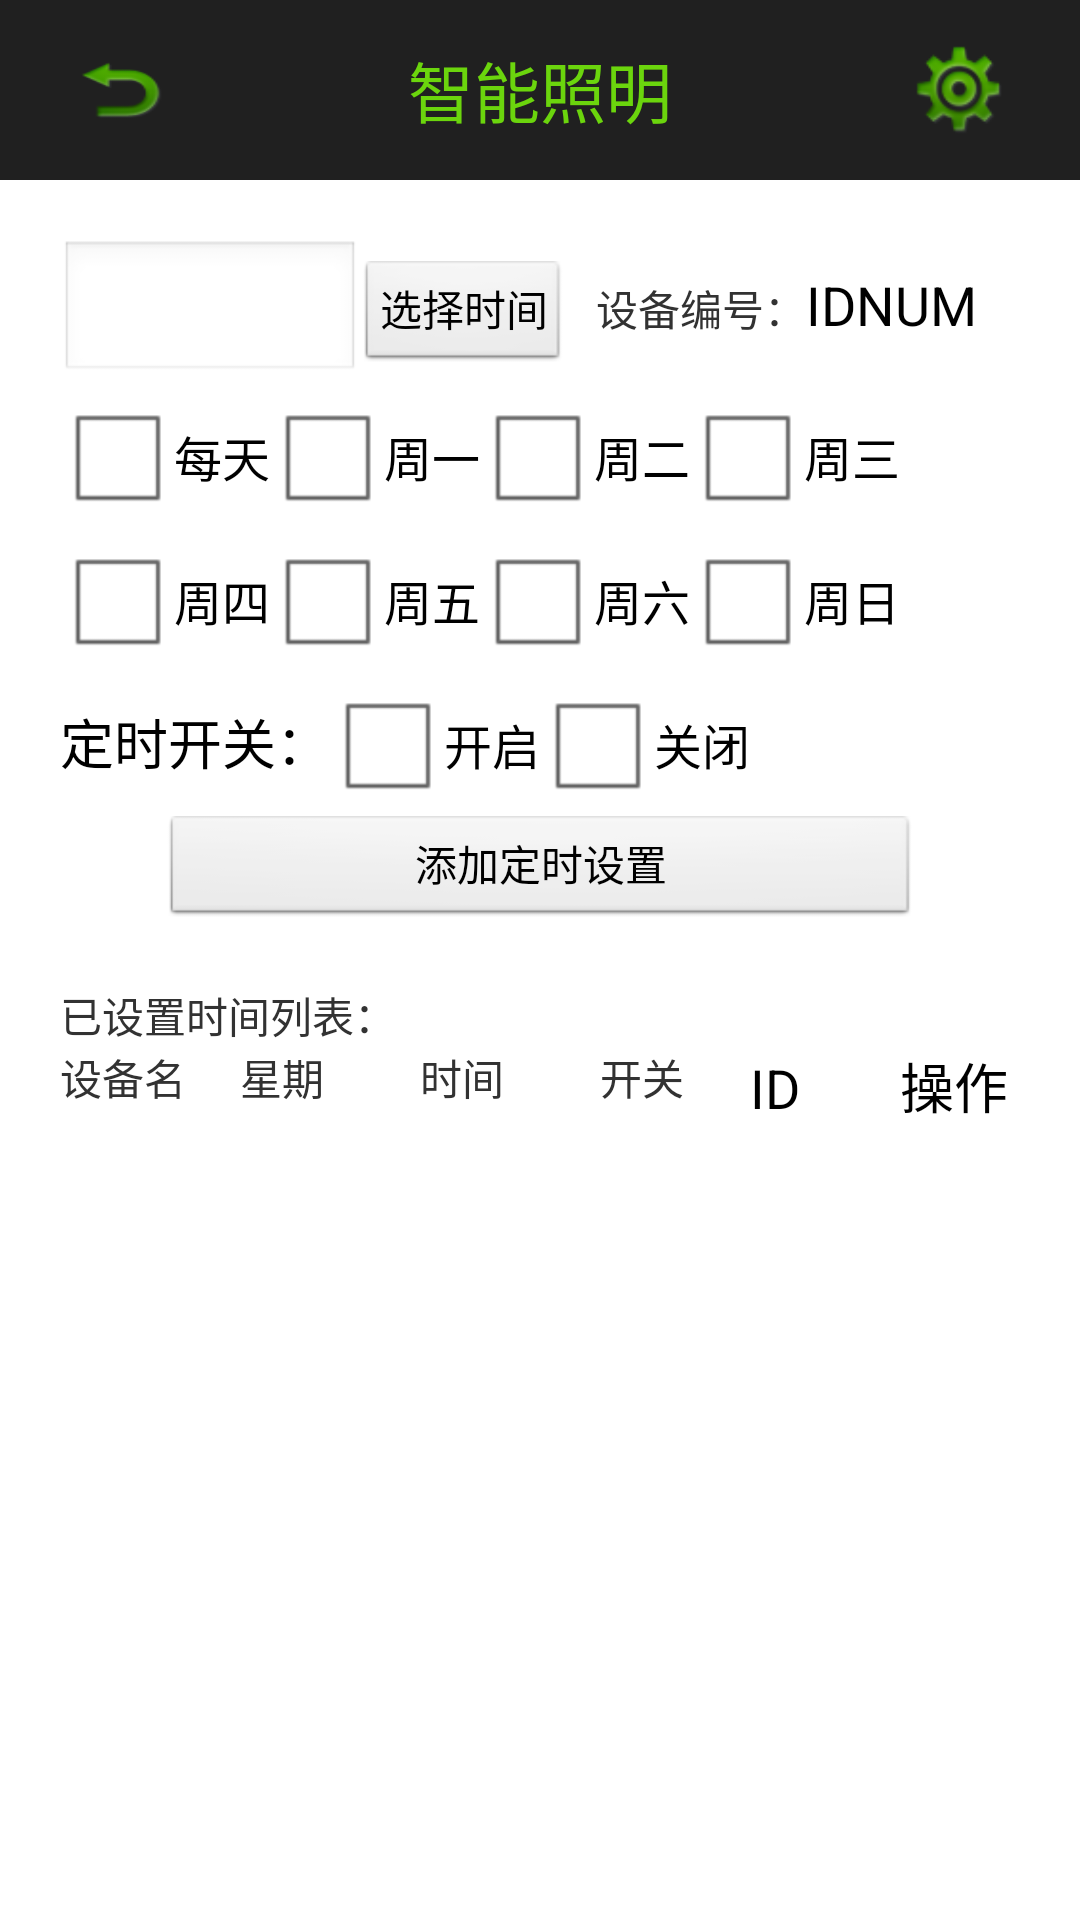

Locate icon controls on the screen. Image size 1080px x 1920px, boxes as detection(x1, y1, x2, y2).
backclick: detection(83, 63, 160, 117)
set: detection(917, 47, 1000, 131)
